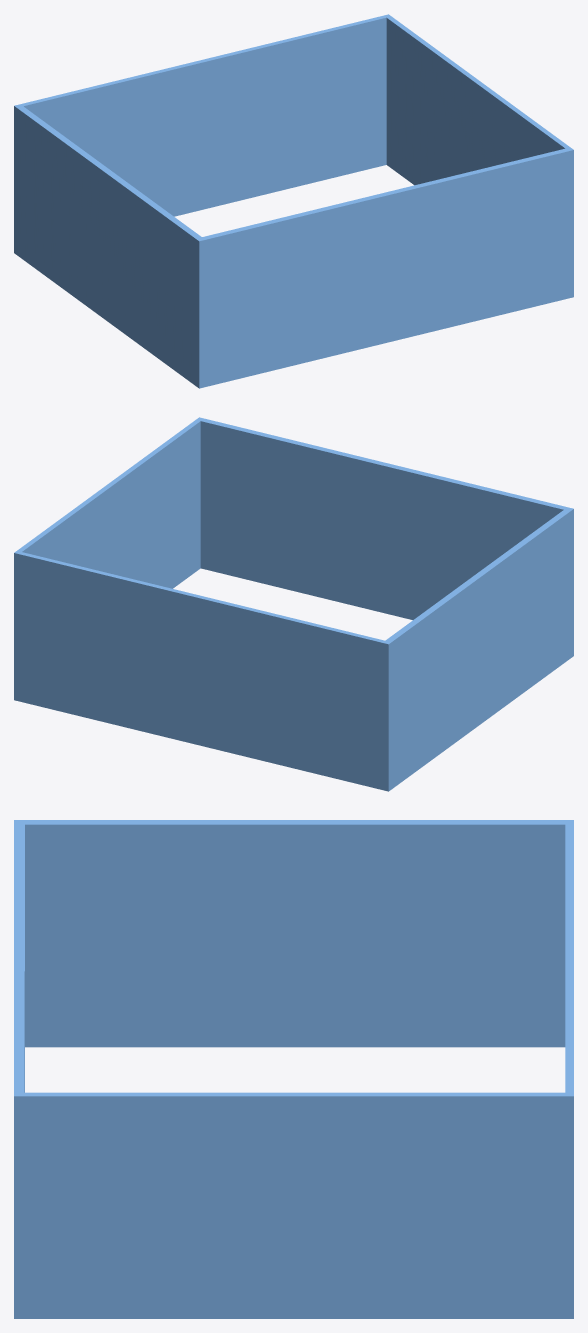
The model's file is qiang.fbx.
3 views of the same model, one above another, from view 1: azimuth 30°, elevation 25°; view 2: azimuth 150°, elevation 25°; view 3: azimuth 270°, elevation 25° (orthographic). The views are drawn at different scales.
Parts seen in each view (by area): view 1: pCube1; view 2: pCube1; view 3: pCube1.
Boxes of the visible parts, x1,y1,x2,y2 form: pCube1: (14,14,573,388); pCube1: (14,417,573,791); pCube1: (14,820,573,1318).
Size of the model in its own units: 1409 by 529 by 1207.
